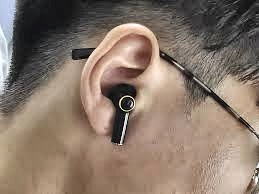earphone: (80, 23, 160, 146)
